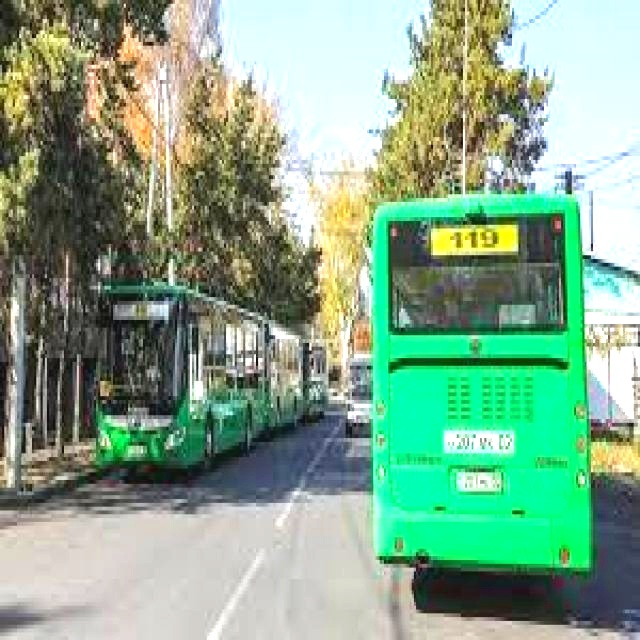bus: (330, 155, 622, 599), (61, 234, 275, 483)
